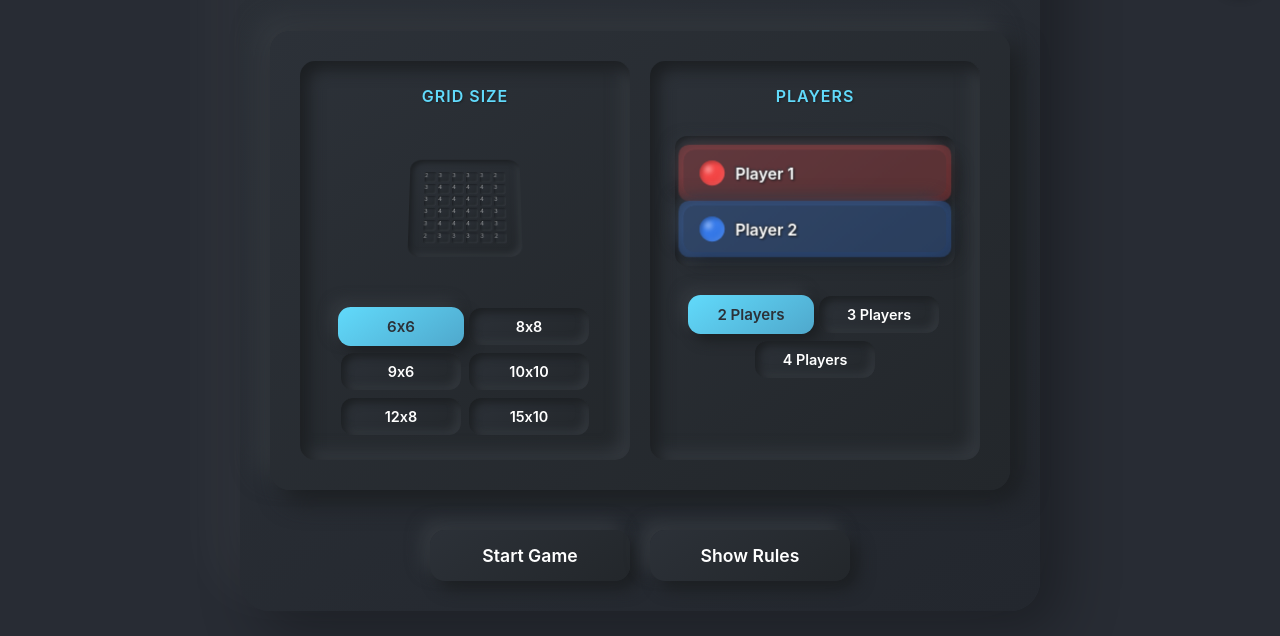
it: Chain Reaction entry flow › reveals the game rules from match setup
Earlier steps of the test are not shown.
(page scrolled)
Click the button "Show Rules" at (750, 556), box [650,530,850,581]
(page scrolled)
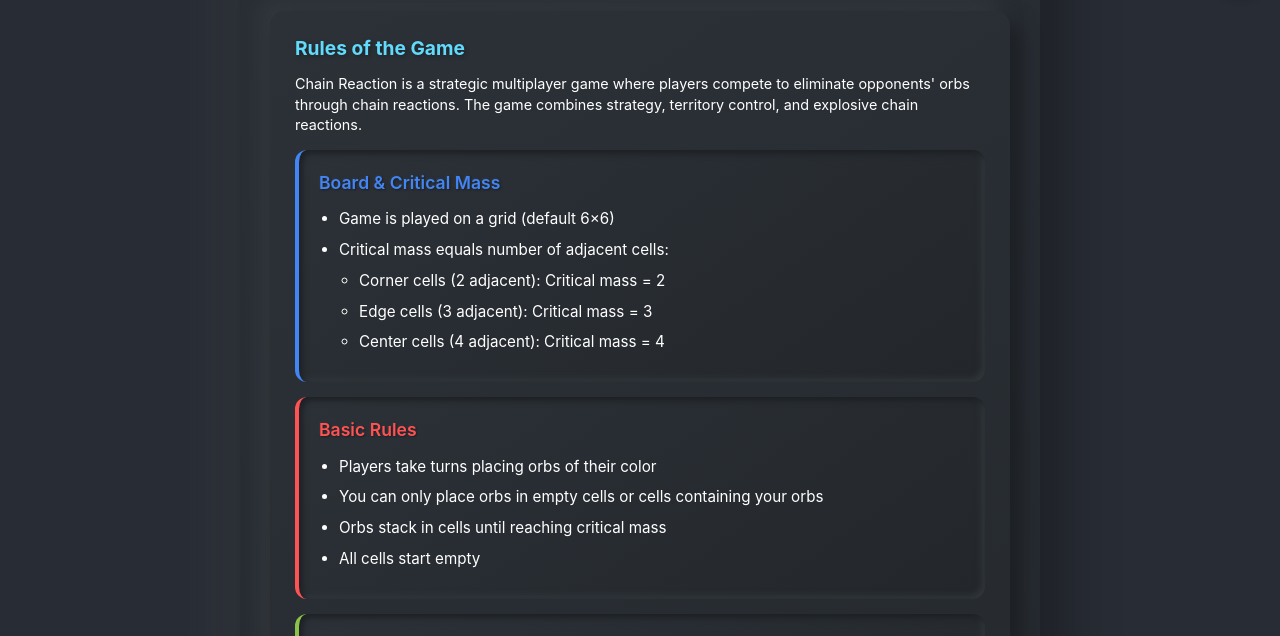
Now the heading "Rules of the Game" is shown, box [295,36,465,60]
Now the list item "Corner cells (2 adjacent): Critical mass = 2" is shown, box [359,271,665,290]
